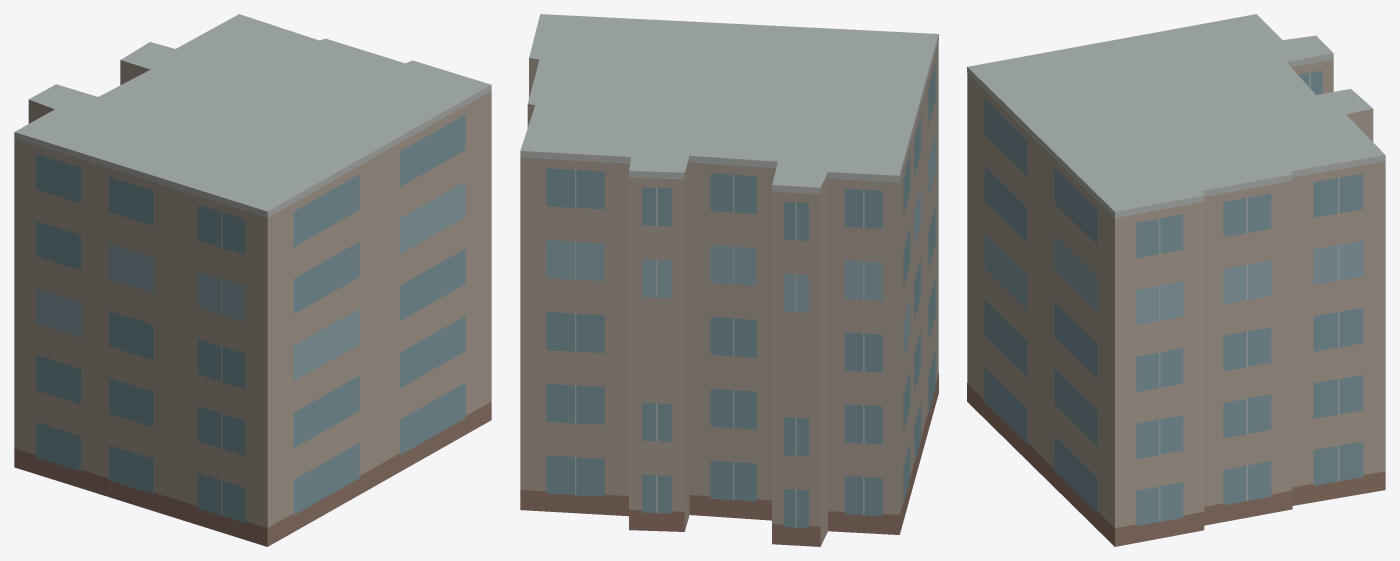
File: survey-upis-32613838.glb
3 renders of one model, left to right at view 1: azimuth 30°, elevation 25°; view 2: azimuth 150°, elevation 25°; view 3: azimuth 270°, elevation 25°, orthographic. The views are drawn at different scales.
Visible parts, largest first — view 1: survey-upis-32613838.tmp; view 2: survey-upis-32613838.tmp; view 3: survey-upis-32613838.tmp.
Boxes of the visible parts, x1=… form: survey-upis-32613838.tmp: x1=14, y1=14, x2=491, y2=546; survey-upis-32613838.tmp: x1=520, y1=14, x2=938, y2=546; survey-upis-32613838.tmp: x1=967, y1=14, x2=1385, y2=546.
Size of the model in its own units: 16.5 by 13 by 14.73.
